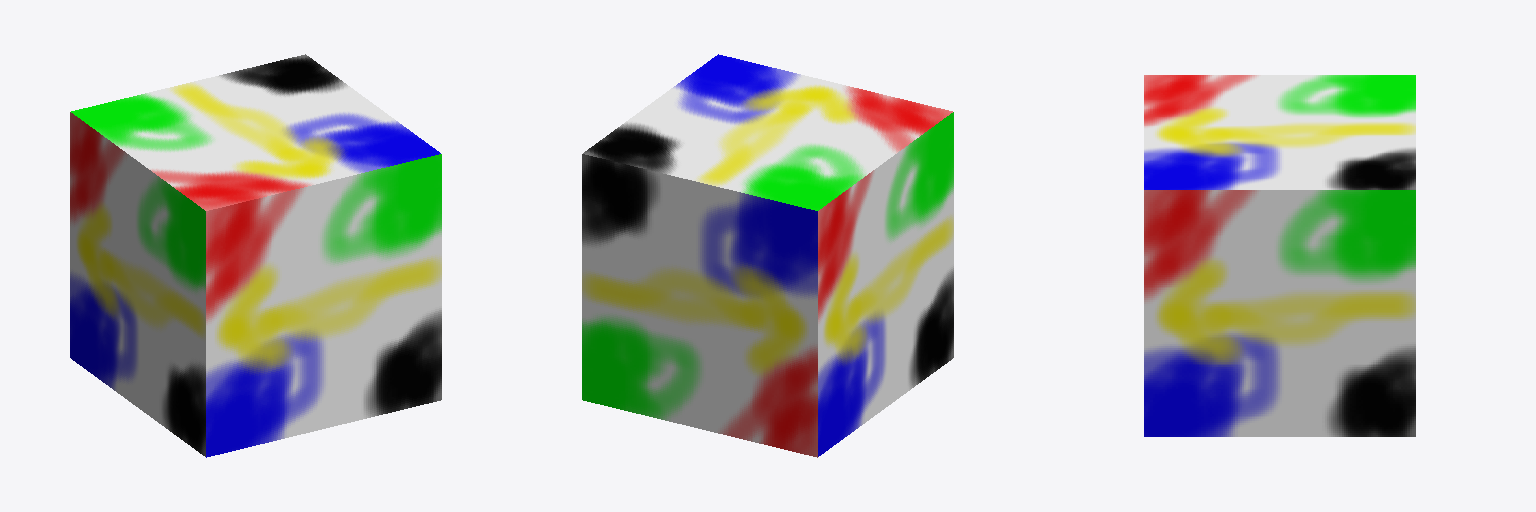
The picture shows the model from 3 angles: view 1: azimuth 30°, elevation 25°; view 2: azimuth 150°, elevation 25°; view 3: azimuth 270°, elevation 25°; orthographic projection.
Parts seen in each view (by area): view 1: Cube; view 2: Cube; view 3: Cube.
Part boxes in pixels (x1,y1,x2,y2): Cube: (70,54,441,457); Cube: (582,54,953,457); Cube: (1144,75,1415,436).
Bounding box in the file's own units: 2 × 2 × 2.
Materials: 1 (1 with a texture image).